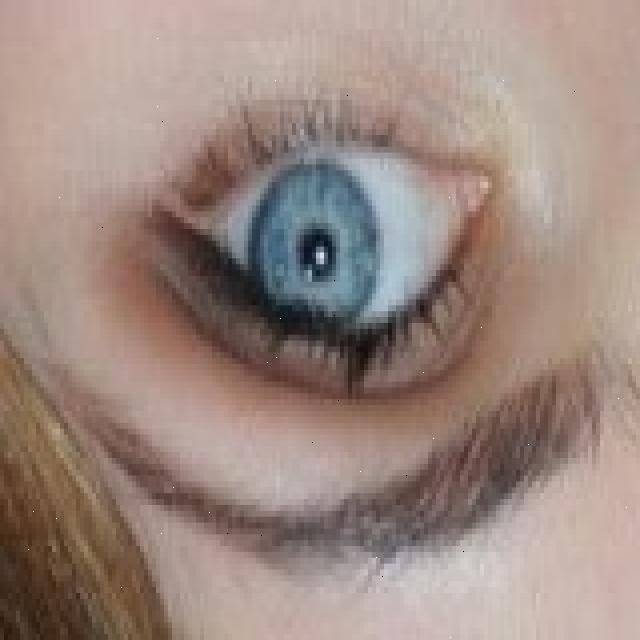Normal: (249, 149, 379, 352)
